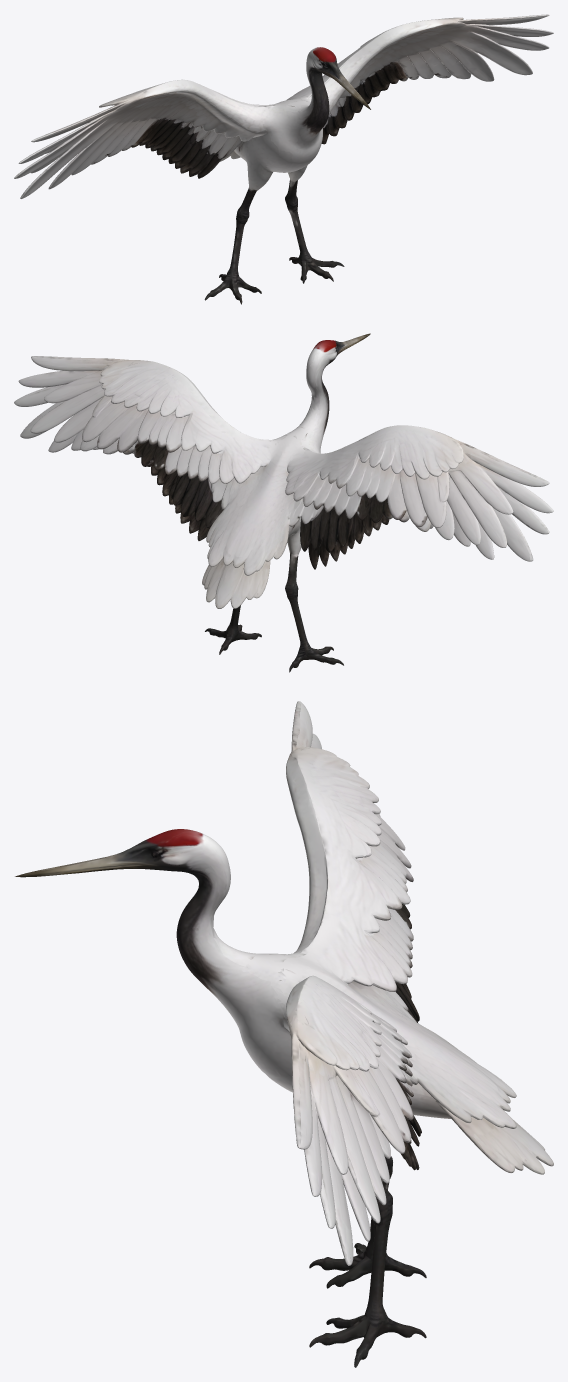
Rendered from crane.glb.
3 views of the same model, one above another, from view 1: azimuth 30°, elevation 25°; view 2: azimuth 150°, elevation 25°; view 3: azimuth 270°, elevation 25° (orthographic). The views are drawn at different scales.
Visible parts, largest first — view 1: node_0; view 2: node_0; view 3: node_0.
Boxes of the visible parts, x1,y1,x2,y2 form: node_0: (14,14,553,304); node_0: (14,333,553,672); node_0: (15,701,553,1367).
Bounding box in the file's own units: 1.17 × 0.5668 × 0.5804.
Materials: 1 (1 with a texture image).
